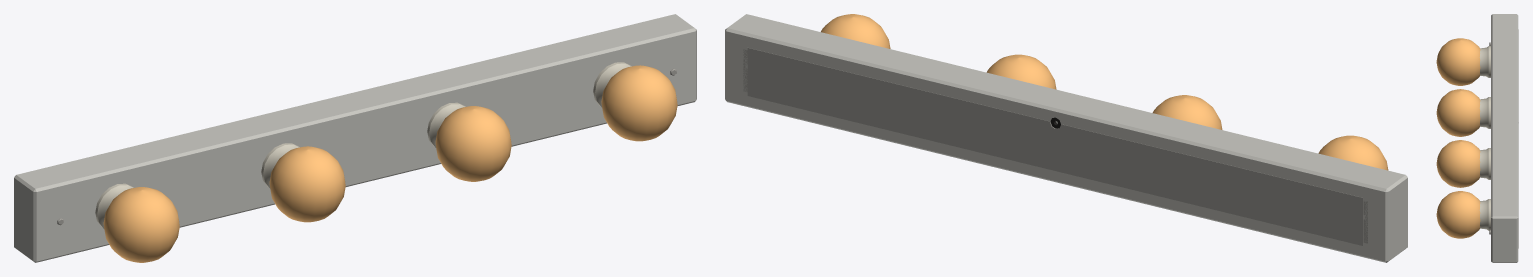
Rendered from mirror-light-5738852d340b.glb.
The picture shows the model from 3 angles, left to right: view 1: azimuth 30°, elevation 25°; view 2: azimuth 150°, elevation 25°; view 3: azimuth 270°, elevation 25°; orthographic projection. The views are drawn at different scales.
Parts seen in each view (by area): view 1: chrome, emissive-warm, enamel; view 2: chrome, brushed, emissive-warm; view 3: emissive-warm, chrome, enamel, brushed.
Part boxes in pixels (x1,y1,x2,y2): chrome: (14, 14, 696, 262); emissive-warm: (103, 65, 677, 262); enamel: (95, 62, 631, 228); chrome: (725, 14, 1407, 262); brushed: (743, 48, 1367, 246); emissive-warm: (821, 14, 1388, 170); emissive-warm: (1436, 38, 1480, 238); chrome: (1491, 14, 1518, 262); enamel: (1479, 46, 1490, 230); brushed: (1489, 29, 1518, 248).
Bounding box in the file's own units: 0.6 × 0.064 × 0.1021.
